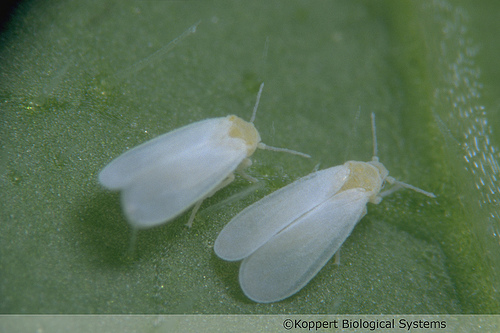whitefly: (214, 112, 437, 303), (99, 77, 310, 229)
